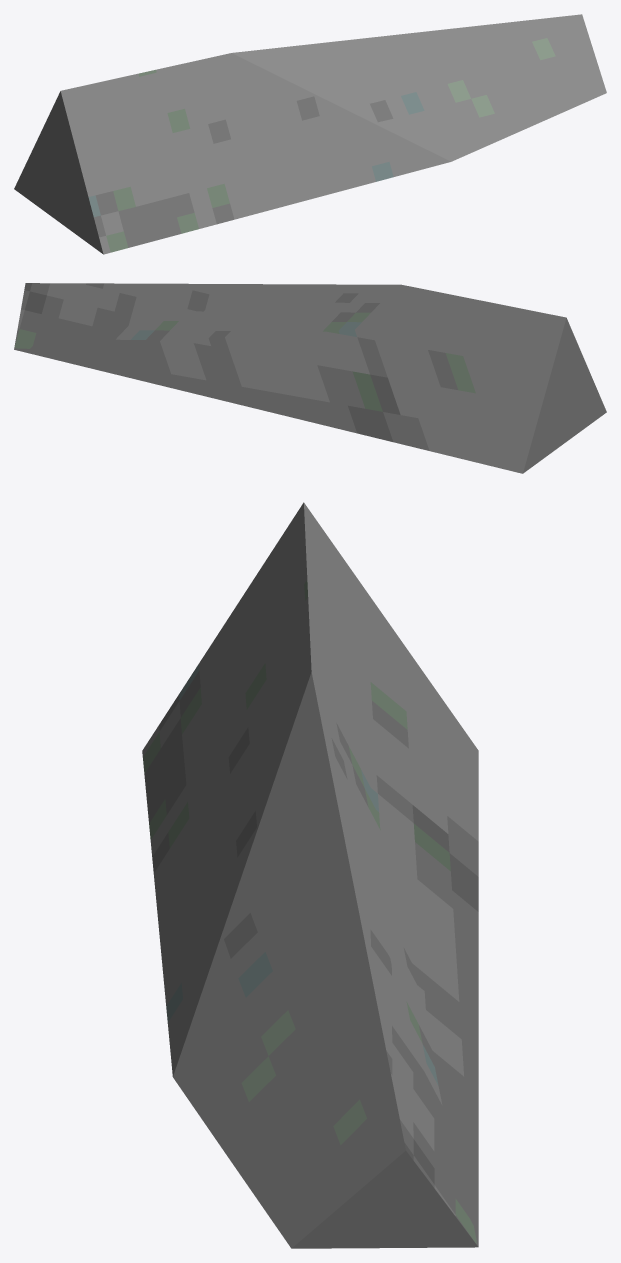
The model's file is barriar_cell_001.glb.
The picture shows the model from 3 angles, top to bottom: view 1: azimuth 30°, elevation 25°; view 2: azimuth 150°, elevation 25°; view 3: azimuth 270°, elevation 25°; orthographic projection. The views are drawn at different scales.
Parts seen in each view (by area): view 1: Barriar_cell.001; view 2: Barriar_cell.001; view 3: Barriar_cell.001.
Boxes of the visible parts, <box> form: Barriar_cell.001: <box>14,14,606,254</box>; Barriar_cell.001: <box>14,283,606,473</box>; Barriar_cell.001: <box>142,502,478,1248</box>.
Size of the model in its own units: 0.8466 by 0.1951 by 0.2394.
1 material, 1 textured.
